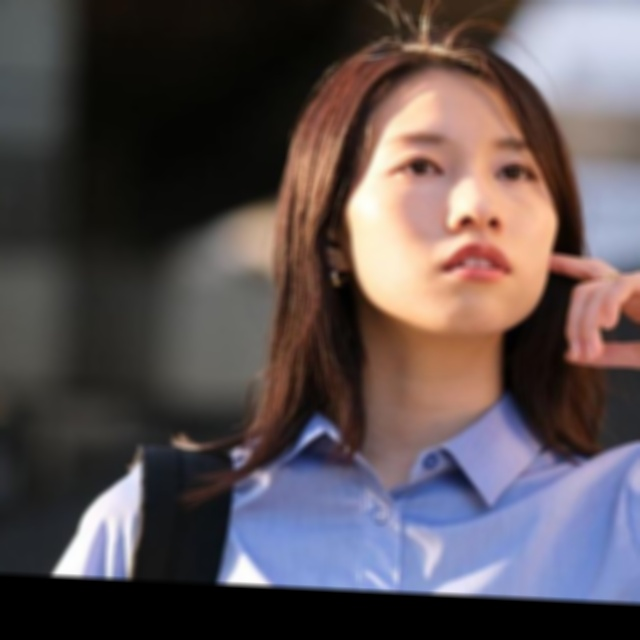Sin_Casco_Mascarrilla: (285, 31, 573, 342)
